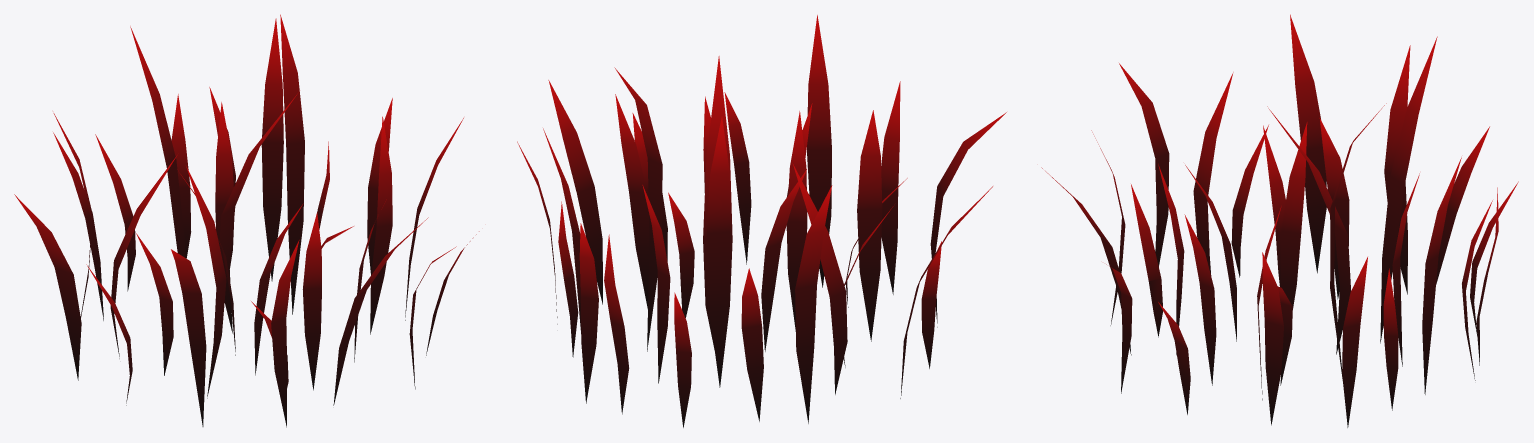
The model's file is Grass.fbx.
3 views of the same model, side by side, from view 1: azimuth 30°, elevation 25°; view 2: azimuth 150°, elevation 25°; view 3: azimuth 270°, elevation 25° (orthographic). The views are drawn at different scales.
Visible parts, largest first — view 1: Grass; view 2: Grass; view 3: Grass.
Boxes of the visible parts, x1,y1,x2,y2 form: Grass: [14, 14, 479, 427]; Grass: [517, 15, 1006, 427]; Grass: [1041, 14, 1518, 427].
Size of the model in its own units: 133 by 83.52 by 124.
